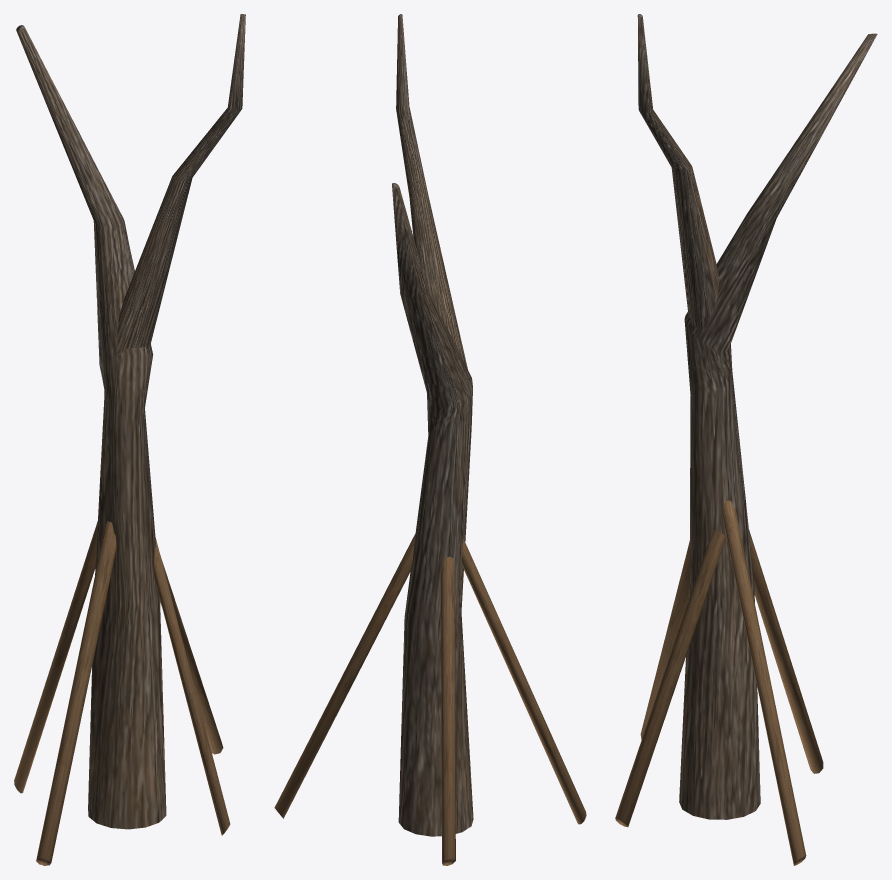
Rendered from tree_rescale_support.FBX.
The picture shows the model from 3 angles, left to right: view 1: azimuth 30°, elevation 25°; view 2: azimuth 150°, elevation 25°; view 3: azimuth 270°, elevation 25°; orthographic projection. The views are drawn at different scales.
Visible parts, largest first — view 1: Object191; view 2: Object191; view 3: Object191.
Part boxes in pixels (x1,y1,x2,y2): Object191: (14,14,245,865); Object191: (274,14,586,865); Object191: (615,14,877,865).
Bounding box in the file's own units: 163 × 490 × 141.
